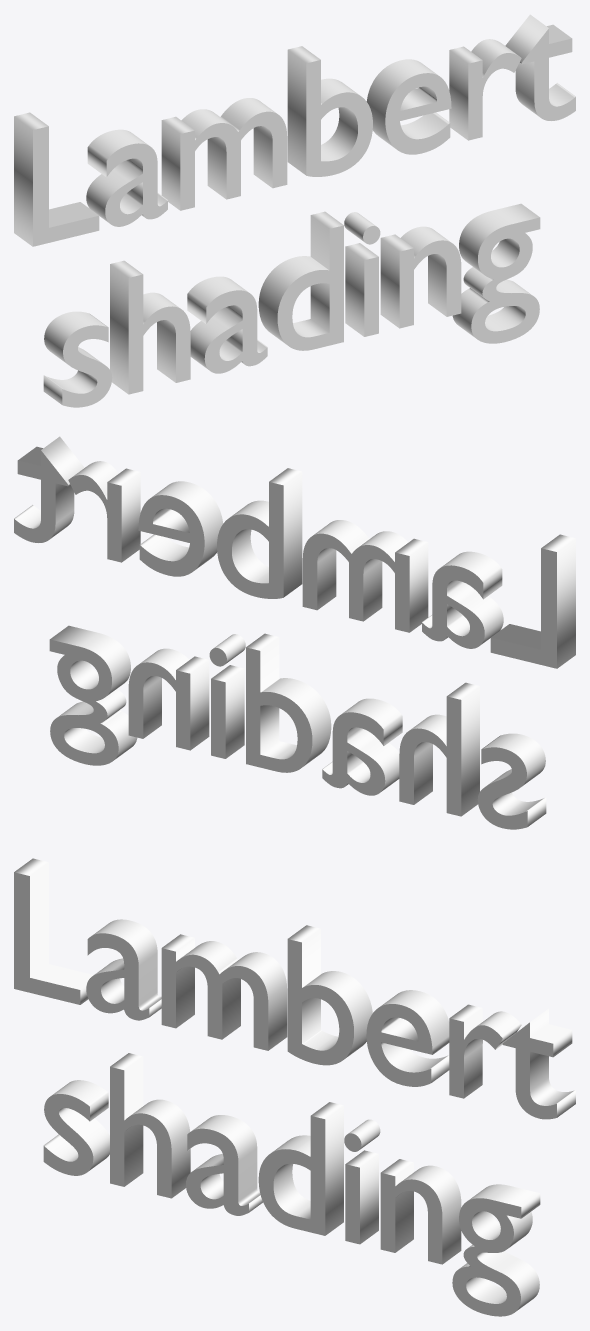
The model's file is lambert_shading.obj.
The picture shows the model from 3 angles, top to bottom: view 1: azimuth 30°, elevation 25°; view 2: azimuth 150°, elevation 25°; view 3: azimuth 330°, elevation 25°; orthographic projection.
Visible parts, largest first — view 1: Text_Text_Material; view 2: Text_Text_Material; view 3: Text_Text_Material.
Part boxes in pixels (box(x1,y1,x2,y2)): Text_Text_Material: box(14, 14, 575, 407); Text_Text_Material: box(14, 436, 575, 829); Text_Text_Material: box(14, 858, 575, 1316).
Size of the model in its own units: 3.32 by 1.91 by 0.2.
1 material, 1 textured.
